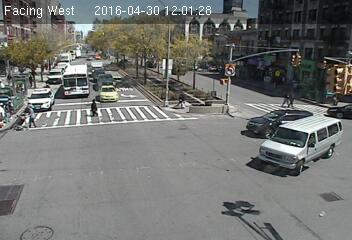neg: (316, 183, 336, 208), (217, 93, 231, 112), (219, 195, 233, 214), (153, 191, 167, 209), (131, 125, 143, 142), (255, 51, 267, 67), (122, 98, 134, 114), (220, 165, 232, 181), (73, 146, 85, 162), (15, 166, 27, 182), (97, 192, 109, 208), (61, 66, 73, 81), (221, 62, 232, 78), (263, 144, 274, 159), (101, 71, 112, 85), (59, 16, 69, 30), (137, 32, 146, 44), (42, 45, 51, 57), (87, 44, 95, 55)
pos: (172, 90, 188, 112), (22, 105, 38, 126), (85, 97, 100, 117), (282, 88, 295, 105), (286, 90, 298, 106), (3, 69, 15, 85), (25, 73, 36, 88)
